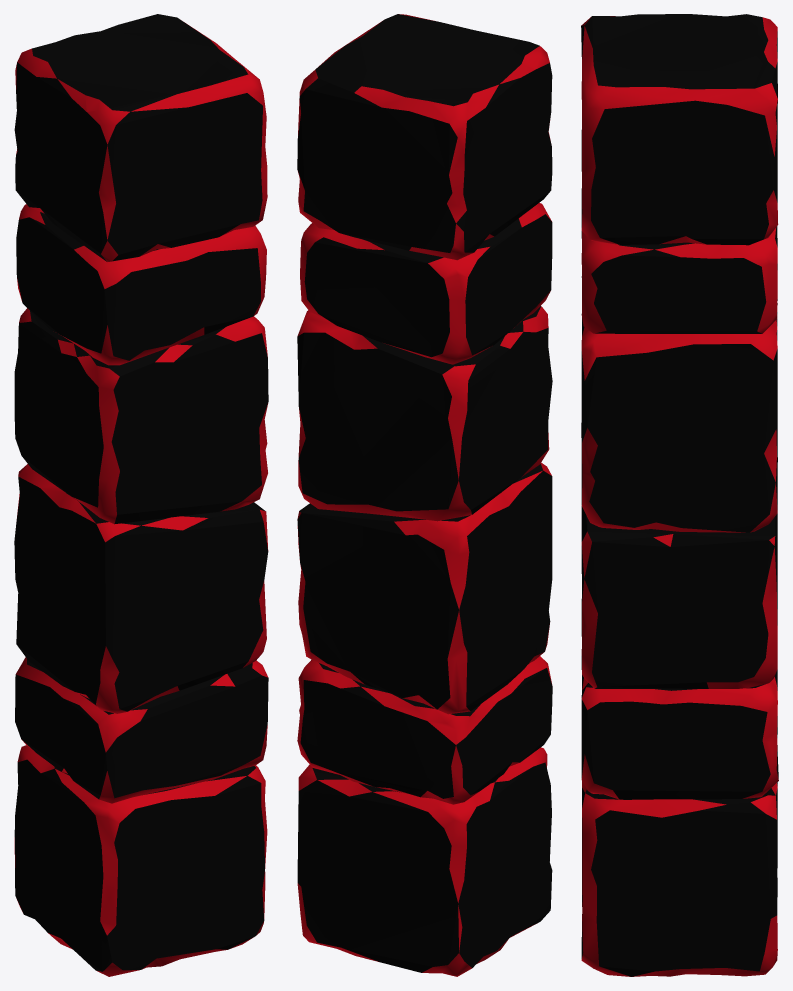
File: DungeonPillarA.fbx
3 renders of one model, left to right at view 1: azimuth 30°, elevation 25°; view 2: azimuth 150°, elevation 25°; view 3: azimuth 270°, elevation 25°, orthographic. The views are drawn at different scales.
Visible parts, largest first — view 1: DungeonPillarA; view 2: DungeonPillarA; view 3: DungeonPillarA.
Part boxes in pixels (x1,y1,x2,y2): DungeonPillarA: (14, 14, 268, 976); DungeonPillarA: (297, 14, 552, 976); DungeonPillarA: (581, 14, 778, 976).
Size of the model in its own units: 80.4 by 80.79 by 400.
